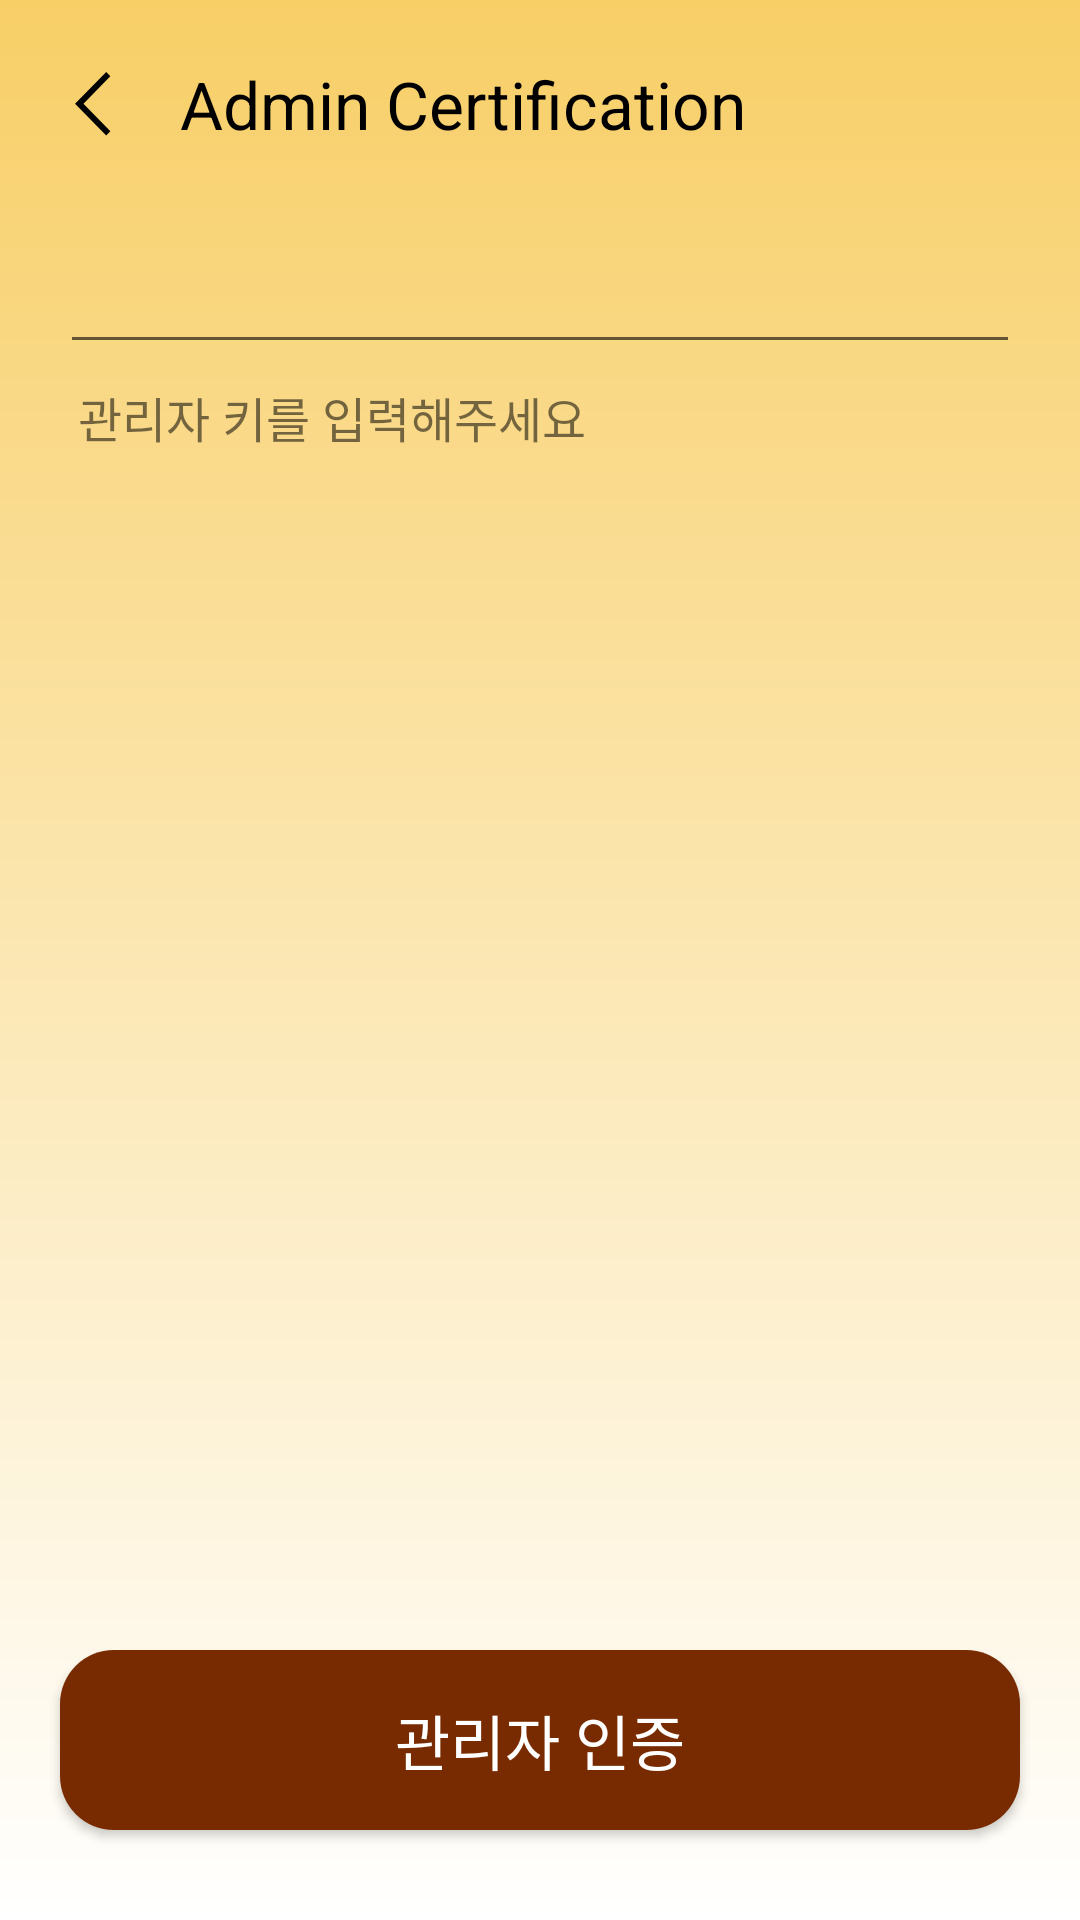

Icons on this 1080x1920 Android screen, each with the point to tap as (x,y):
back: (93,104)
